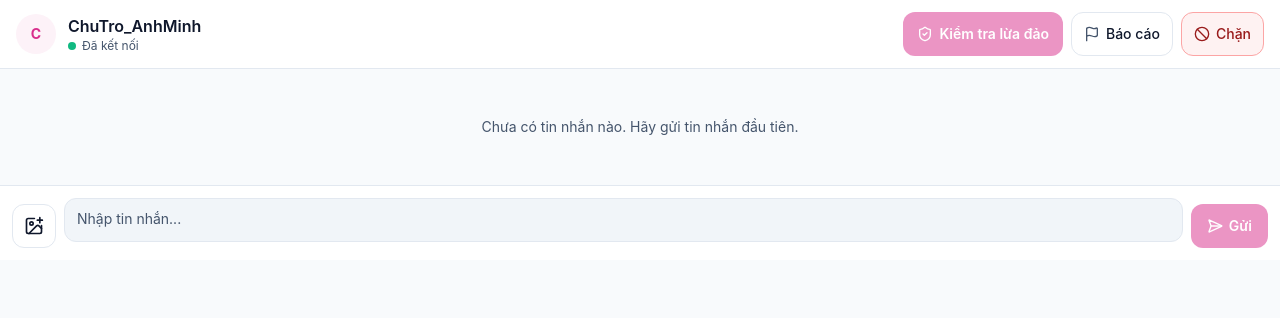
it: ChatWindow: gửi tin text › socket báo chưa gửi được thì giữ nội dung và hiện lỗi
The image size is (1280, 318).
In the text box labelled "Nhập tin nhắn": (623, 220) [64, 198, 1183, 242], type "chào"
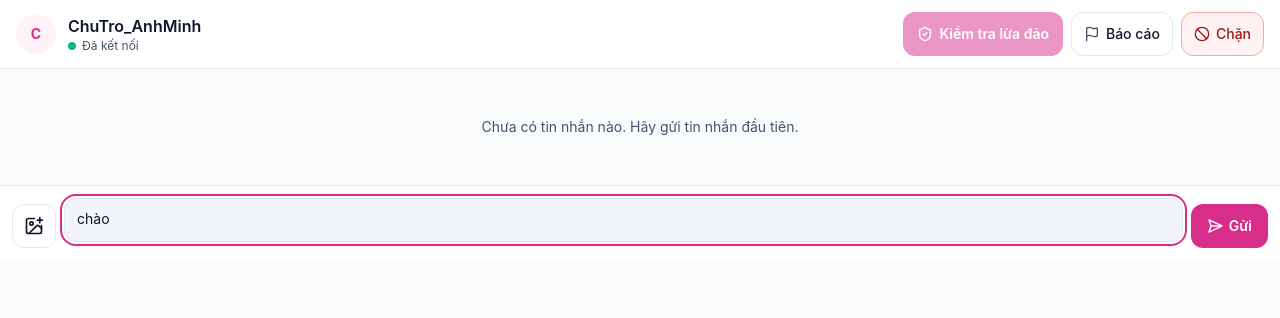
Click the button "Gửi": (1229, 226) [1191, 204, 1268, 248]
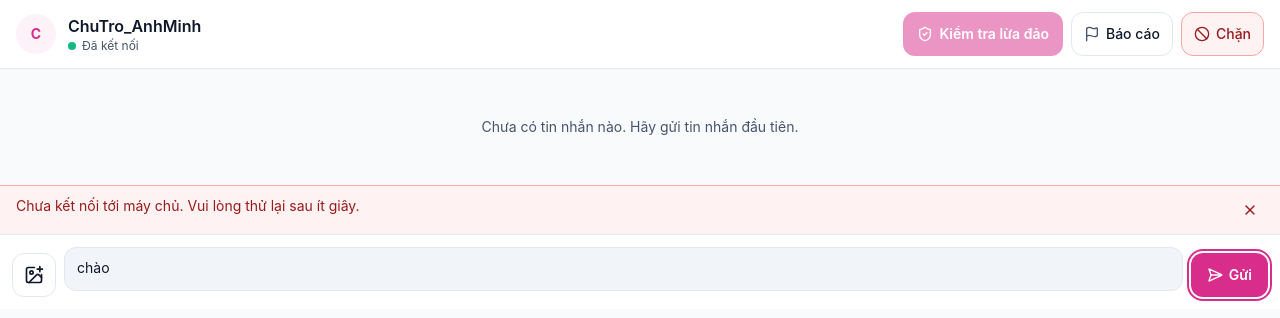
Expected: the message shows "Chưa kết nối tới máy chủ.", [16, 197, 360, 214]
